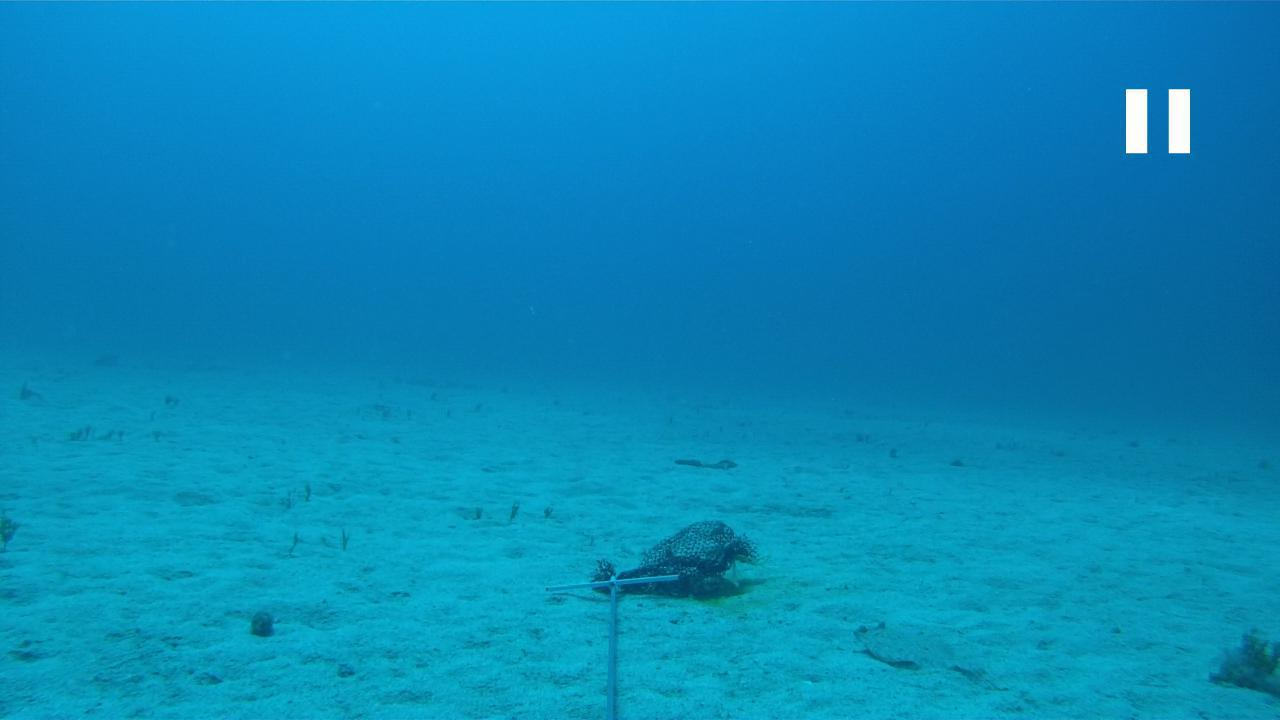bothus: (850, 618, 993, 676)
